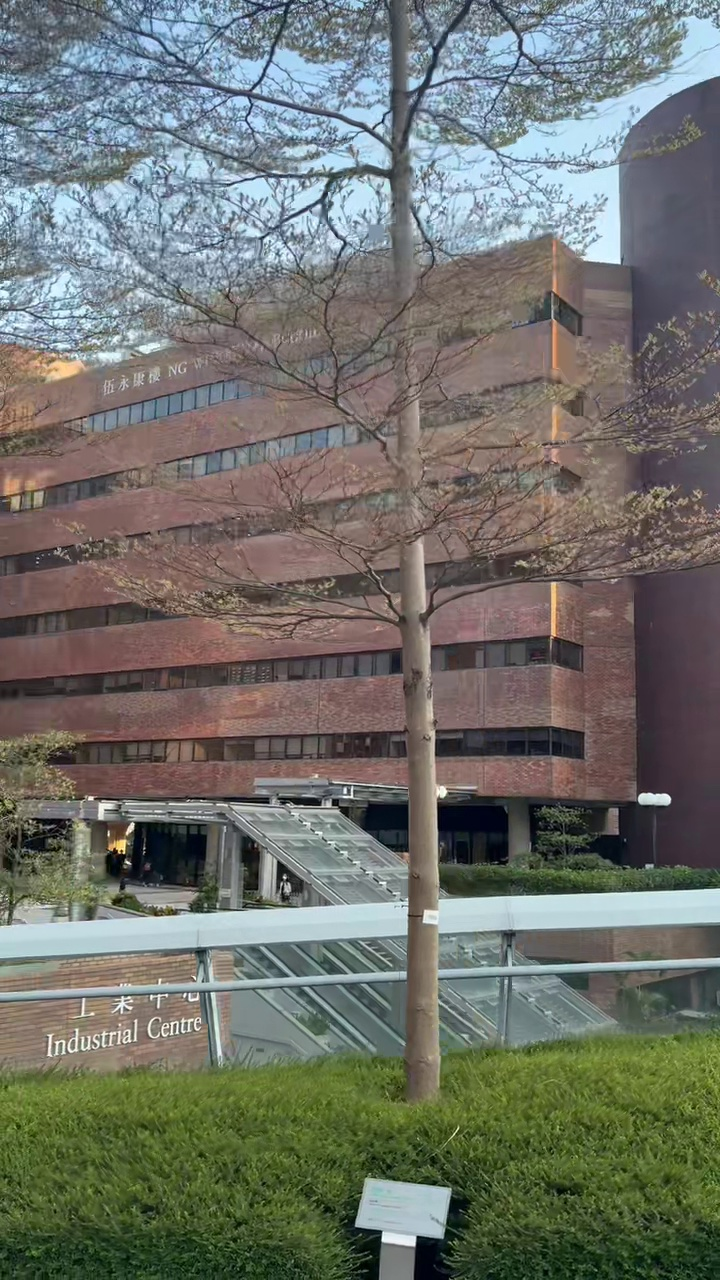Terminalia mantaly: (0, 0, 719, 1099)
